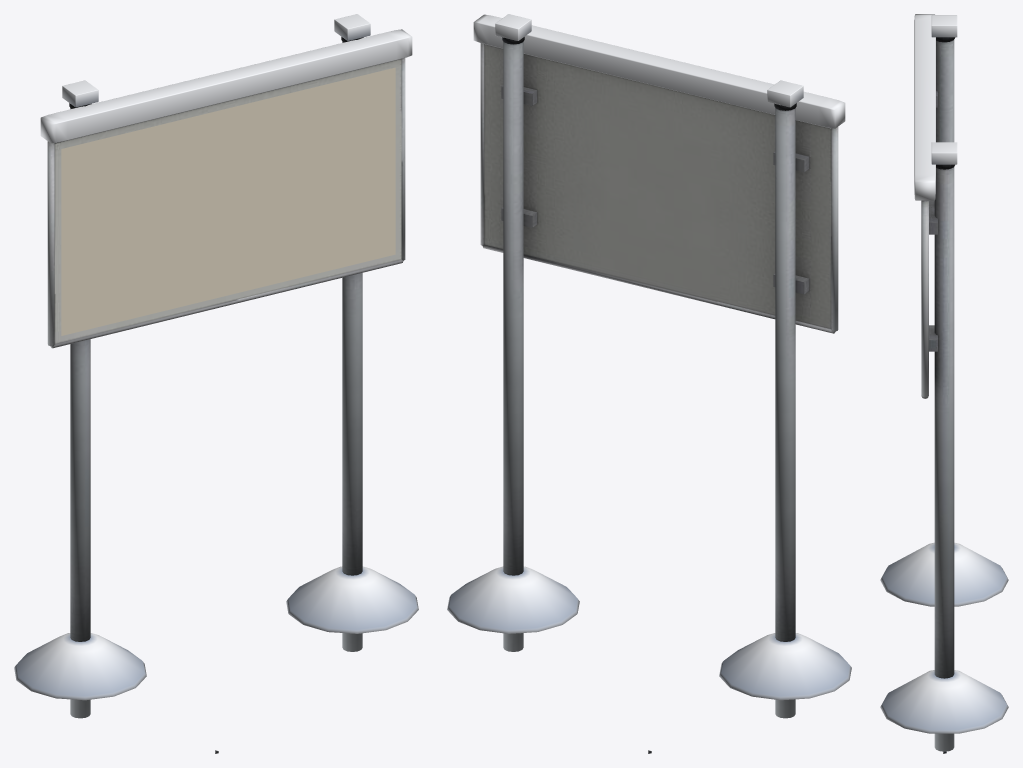
The model's file is sign_lift.glb.
3 renders of one model, left to right at view 1: azimuth 30°, elevation 25°; view 2: azimuth 150°, elevation 25°; view 3: azimuth 270°, elevation 25°, orthographic. The views are drawn at different scales.
Parts seen in each view (by area): view 1: sign_lift_paint, sign_lift_snow, sign_lift; view 2: sign_lift, sign_lift_snow; view 3: sign_lift_snow, sign_lift.
Part boxes in pixels (<box>): sign_lift_paint: <box>61,67,395,335</box>; sign_lift_snow: <box>14,14,418,700</box>; sign_lift: <box>47,37,405,753</box>; sign_lift: <box>480,37,838,753</box>; sign_lift_snow: <box>447,14,851,700</box>; sign_lift_snow: <box>880,14,1008,733</box>; sign_lift: <box>921,37,955,753</box>.
Bounding box in the file's own units: 1.98 × 3.43 × 0.5985.
3 materials, 1 textured.
